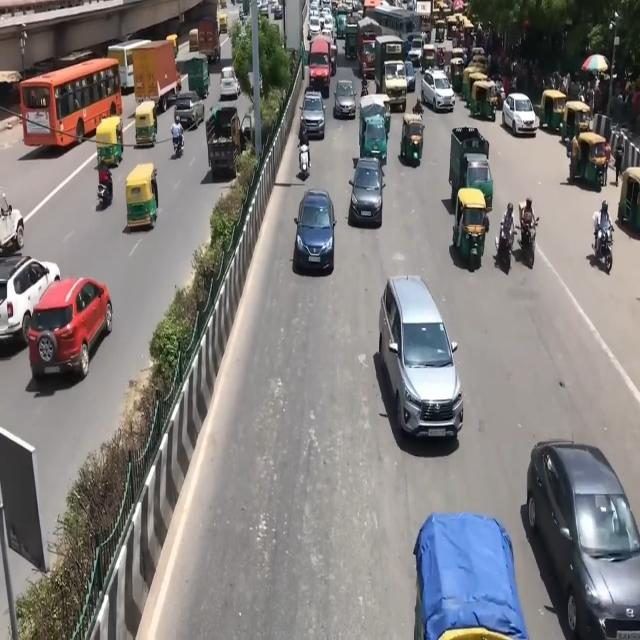auto: (448, 124, 489, 210), (452, 186, 490, 269), (206, 103, 244, 180), (125, 163, 158, 230), (358, 98, 390, 166), (95, 116, 123, 168), (561, 100, 591, 148), (470, 78, 499, 124), (540, 88, 568, 134), (400, 114, 424, 166), (134, 102, 158, 148), (450, 55, 466, 92), (422, 42, 436, 70), (166, 33, 179, 59), (488, 84, 500, 110), (188, 28, 200, 52), (217, 11, 228, 33)
bike-auto: (517, 214, 539, 269), (593, 222, 615, 274), (499, 203, 517, 255), (520, 196, 536, 242), (97, 167, 113, 207), (298, 120, 310, 169), (613, 136, 623, 184), (171, 118, 183, 155), (150, 166, 158, 208), (412, 98, 423, 117), (361, 77, 368, 97)
